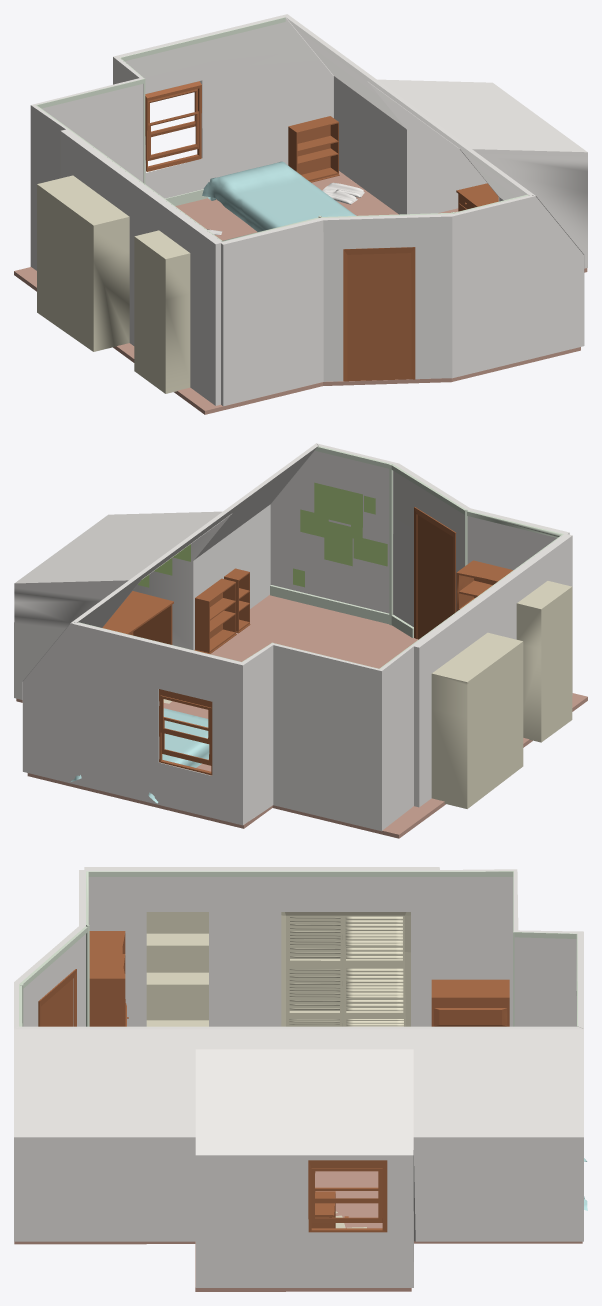
The model's file is room.fbx.
The picture shows the model from 3 angles, top to bottom: view 1: azimuth 30°, elevation 25°; view 2: azimuth 150°, elevation 25°; view 3: azimuth 270°, elevation 25°; orthographic projection. The views are drawn at different scales.
Parts seen in each view (by area): view 1: wall_Cube_000, 5zena, wall_1_Cube_000, window_wall_Cube_000, wall_2_Cube_000, do_win, door_wall_Cube_002, clo_wall_Cube_004, wood_wall_Cube_000, bed, floor_Cube_001, blinta_Cube_001 (+3 smaller); view 2: wall_Cube_000, 5zena, window_wall_Cube_000, wall_1_Cube_000, floor_Cube_001, clo_wall_Cube_004, wood_wall_Cube_000, do_win, Plane, door_wall_Cube_002, blinta_Cube_001, for_1 (+4 smaller); view 3: wood_wall_Cube_000, window_wall_Cube_000, clo_wall_Cube_004, 5zena, wall_Cube_000, do_win, blinta_Cube_001, floor_Cube_001, for_3, for_2, door_wall_Cube_002, desk.
Part boxes in pixels (x1,y1,x2,y2): wall_Cube_000: (30,14,333,270); 5zena: (37,175,190,393); wall_1_Cube_000: (452,195,583,378); window_wall_Cube_000: (368,79,587,268); wall_2_Cube_000: (221,218,323,406); do_win: (145,81,415,381); door_wall_Cube_002: (321,214,453,381); clo_wall_Cube_004: (60,129,222,405); wood_wall_Cube_000: (286,14,584,345); bed: (202,161,356,231); floor_Cube_001: (14,171,587,414); blinta_Cube_001: (36,17,528,241); wall_Cube_000: (23,622,413,831); 5zena: (431,581,572,808); window_wall_Cube_000: (14,511,231,699); wall_1_Cube_000: (270,443,398,614); floor_Cube_001: (16,595,587,838); clo_wall_Cube_004: (412,533,572,807); wood_wall_Cube_000: (22,443,317,771); do_win: (159,507,456,775); Plane: (138,482,387,587); door_wall_Cube_002: (393,463,470,626); blinta_Cube_001: (78,446,563,669); for_1: (194,568,250,653); wood_wall_Cube_000: (14,1026,583,1241); window_wall_Cube_000: (195,1049,413,1287); clo_wall_Cube_004: (84,867,439,1026); 5zena: (146,912,410,1026); wall_Cube_000: (440,869,583,1028); do_win: (38,969,387,1232); blinta_Cube_001: (19,871,577,1026); floor_Cube_001: (14,1171,582,1291); for_3: (431,979,509,1026); for_2: (89,931,128,1026); door_wall_Cube_002: (14,926,85,1026); desk: (311,1191,335,1228).
Size of the model in its own units: 8861 by 3088 by 8406.
